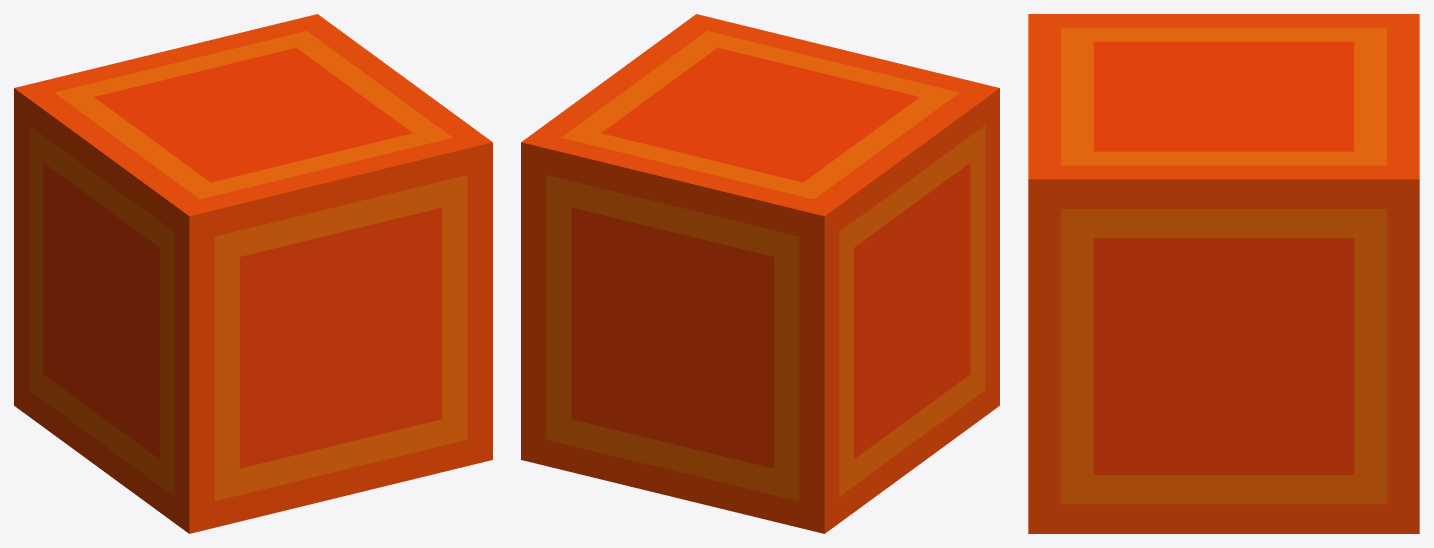
File: Flame Core.fbx
The picture shows the model from 3 angles, left to right: view 1: azimuth 30°, elevation 25°; view 2: azimuth 150°, elevation 25°; view 3: azimuth 270°, elevation 25°; orthographic projection. The views are drawn at different scales.
Visible parts, largest first — view 1: Flame Core; view 2: Flame Core; view 3: Flame Core.
Part boxes in pixels (box(x1,y1,x2,y2)): Flame Core: box(14, 14, 492, 533); Flame Core: box(521, 14, 999, 533); Flame Core: box(1028, 14, 1419, 533).
Bounding box in the file's own units: 0.24 × 0.24 × 0.24.
1 material, 1 textured.
